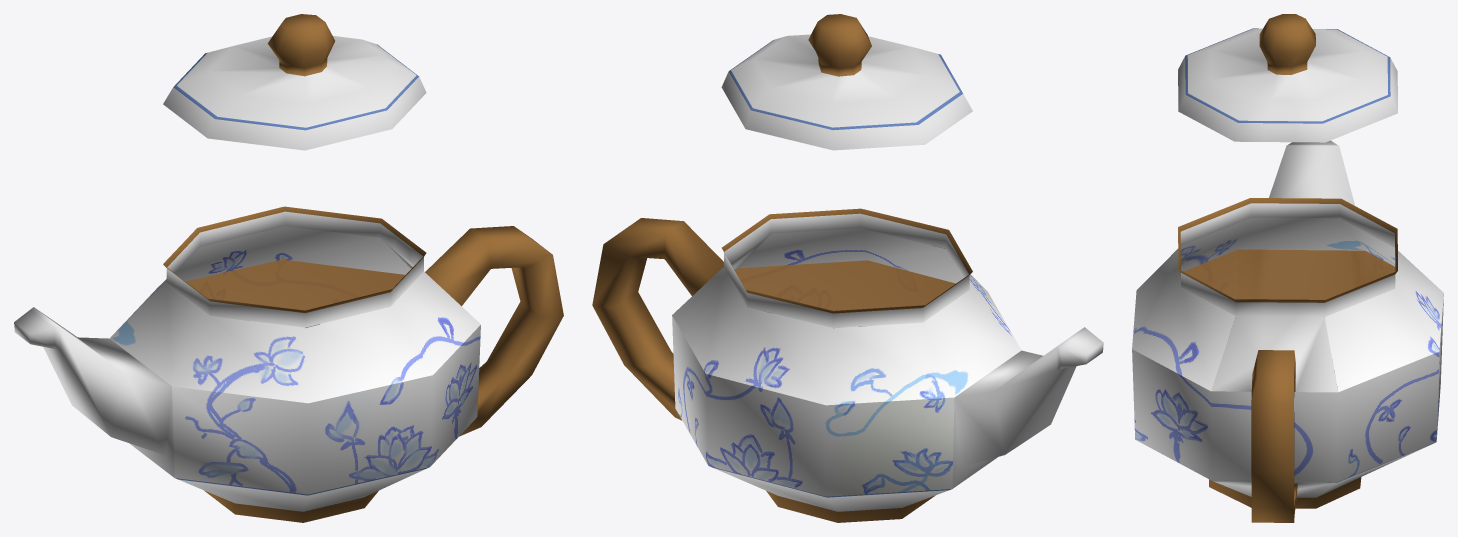
File: teapot.glb
3 views of the same model, side by side, from view 1: azimuth 30°, elevation 25°; view 2: azimuth 150°, elevation 25°; view 3: azimuth 270°, elevation 25° (orthographic).
Parts seen in each view (by area): view 1: Sphere, Sphere.001; view 2: Sphere, Sphere.001; view 3: Sphere, Sphere.001.
Boxes of the visible parts, x1,y1,x2,y2 form: Sphere: [14, 206, 563, 522]; Sphere.001: [163, 14, 426, 150]; Sphere: [592, 208, 1103, 522]; Sphere.001: [721, 14, 972, 150]; Sphere: [1132, 140, 1443, 522]; Sphere.001: [1178, 14, 1397, 142].
Bounding box in the file's own units: 3.66 × 3.15 × 1.96.
5 materials, 1 textured.
